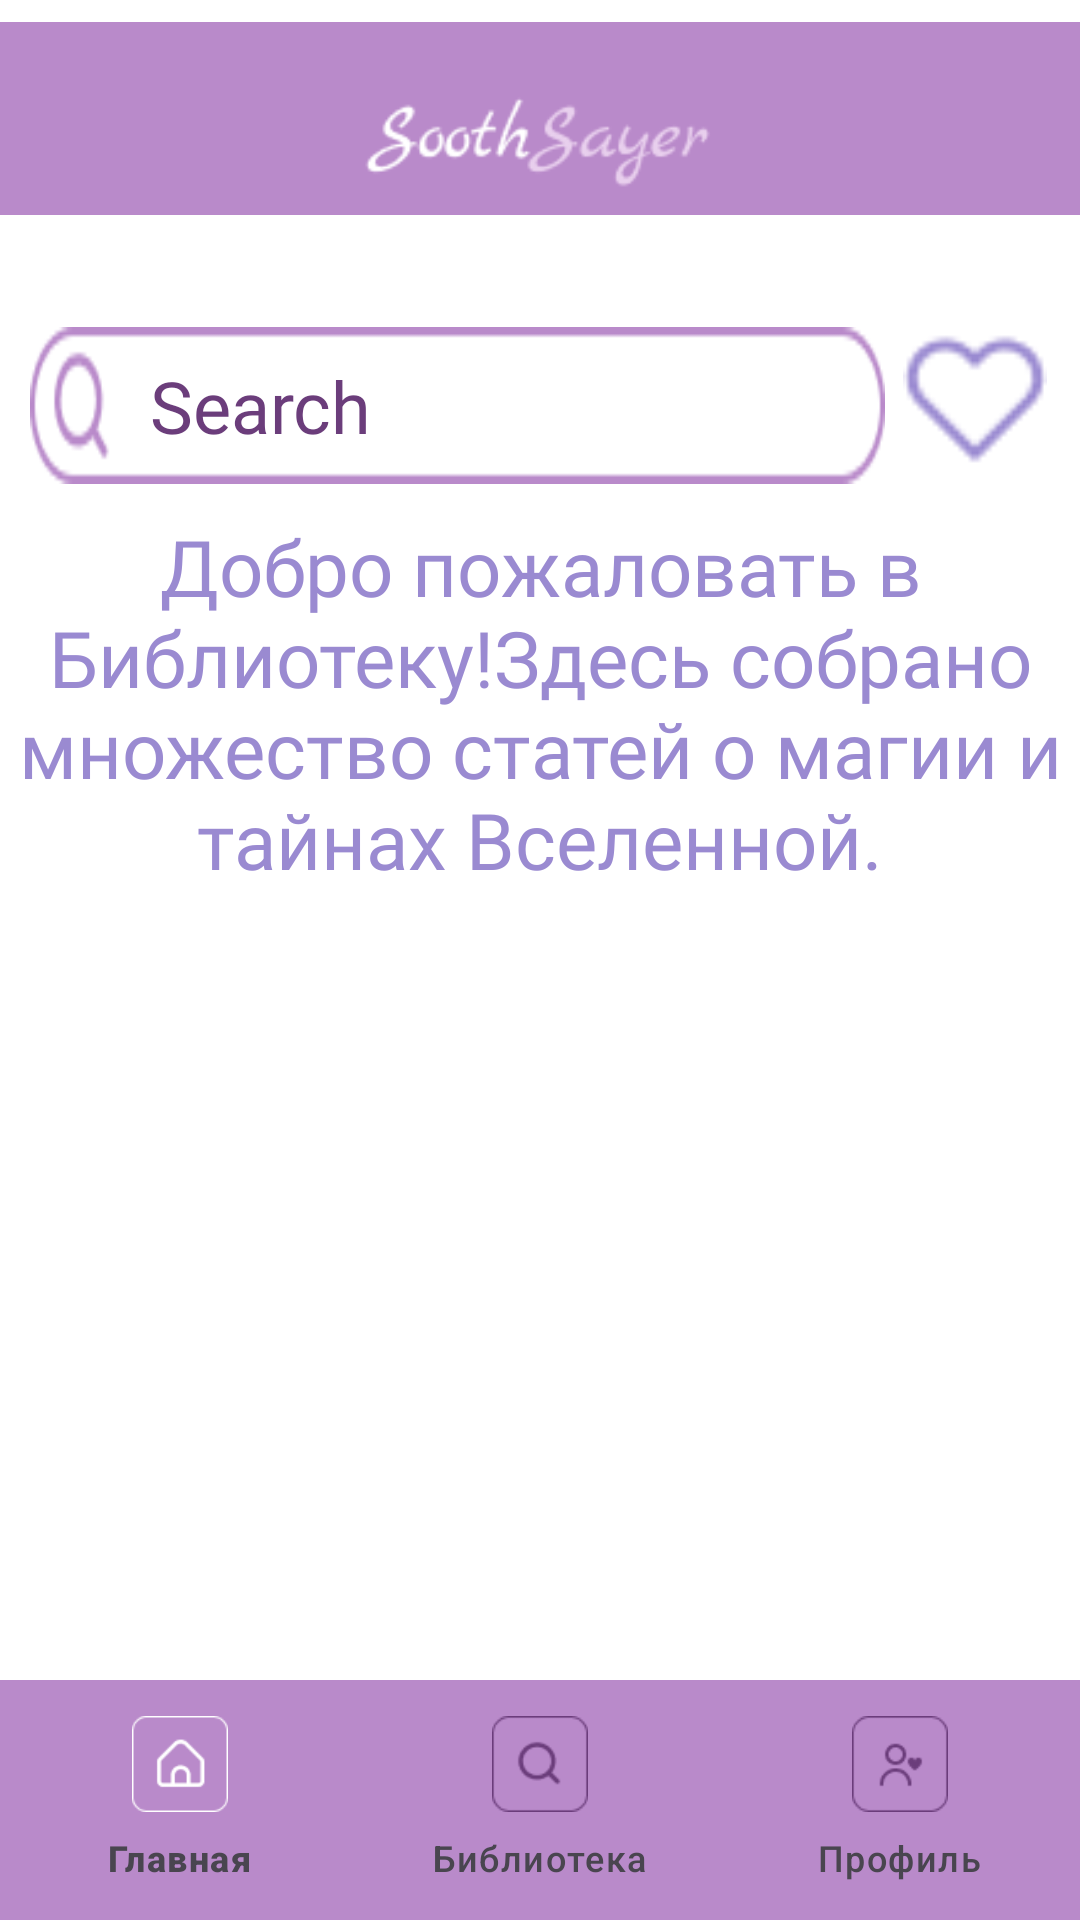

Locate icon controls on the screen. Image size 1080px×1920px, boxes as bbox=[x1, y1, x2, y2].
favorite: bbox=[906, 337, 1044, 461]
